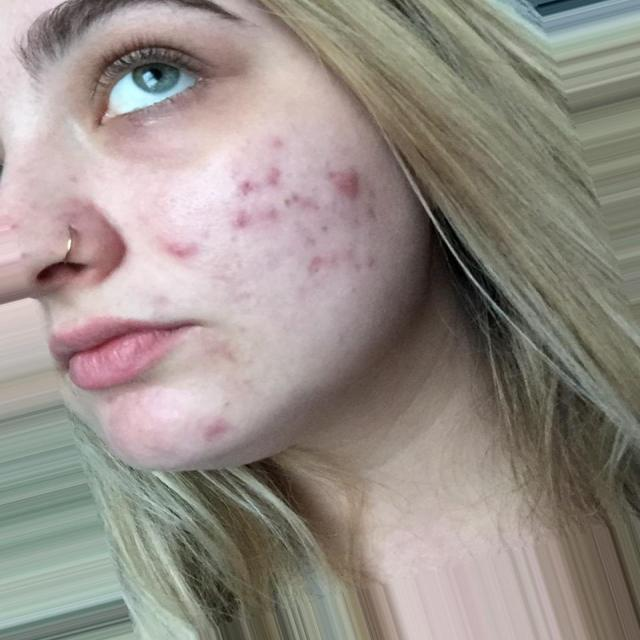acne: (235, 168, 390, 286)
